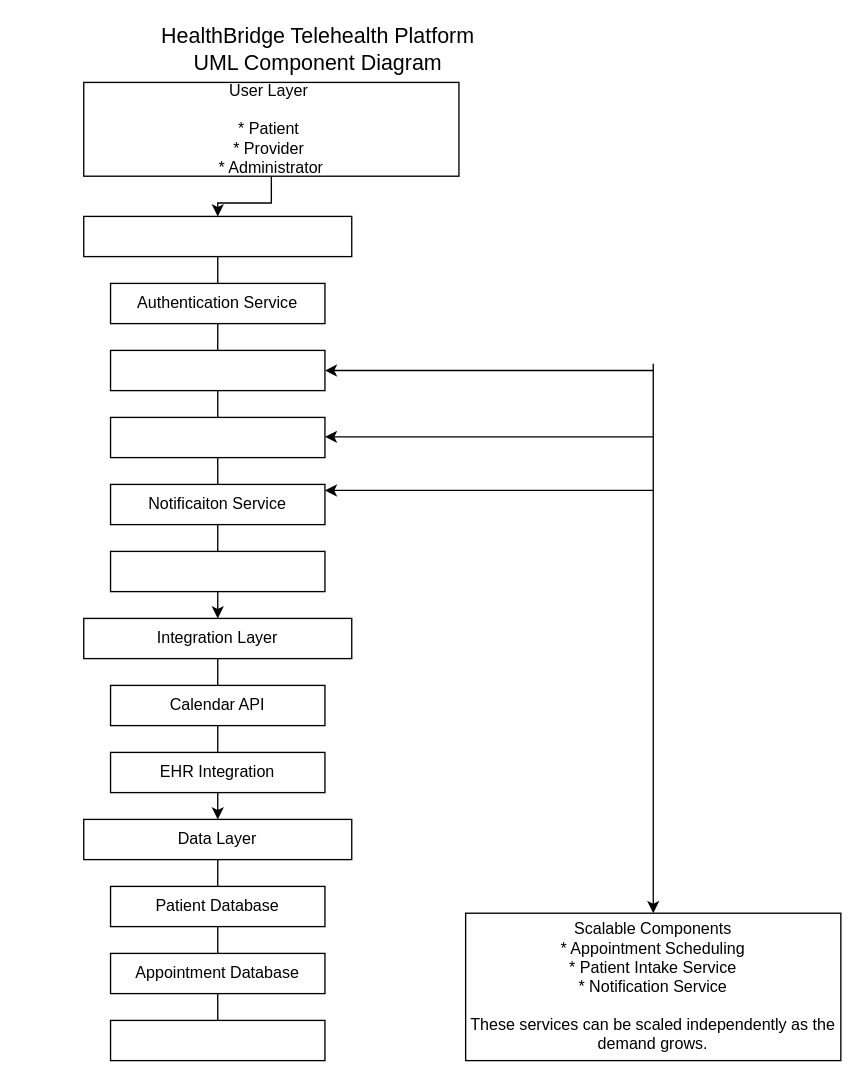
Image size: 864x1084. Some labels were removed from this diagram. Here are the shapes that lost their labels. From the top down, the centre of each, then its label:
the point at 217,236: Application Layer
the point at 217,370: Appointment Scheduling
the point at 217,437: Patient Intake Service
the point at 217,571: Accessibility Module
the point at 217,1040: Audit Log Database
